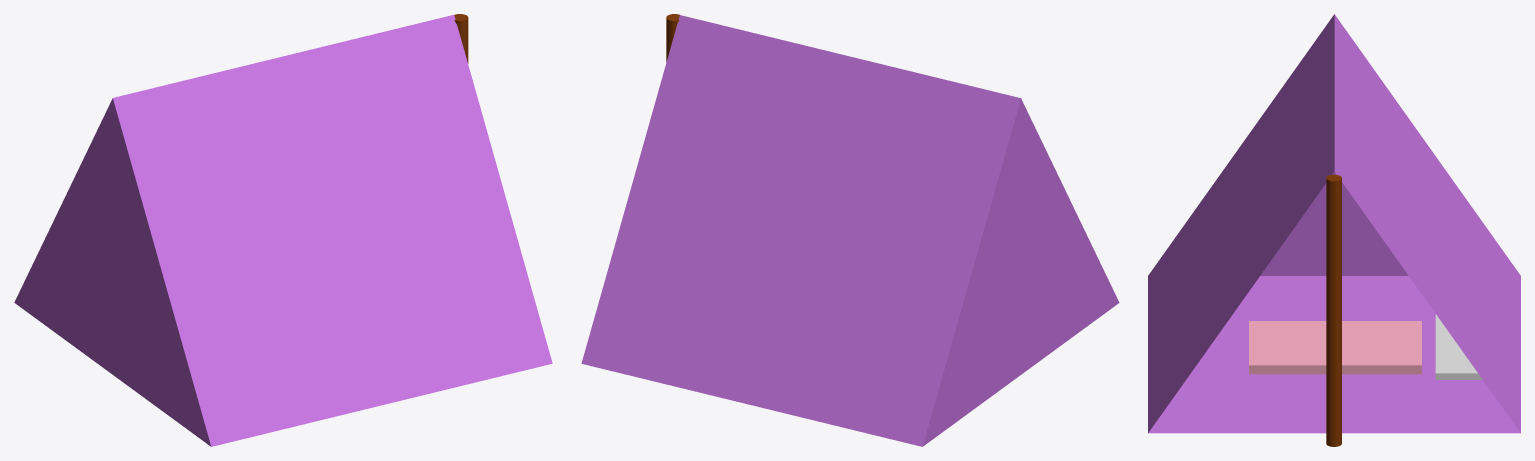
The model's file is tendaboa.fbx.
3 renders of one model, left to right at view 1: azimuth 30°, elevation 25°; view 2: azimuth 150°, elevation 25°; view 3: azimuth 270°, elevation 25°, orthographic. The views are drawn at different scales.
Parts seen in each view (by area): view 1: Plane; view 2: Plane; view 3: Plane, Cube, Cylinder, Cube.001.
Boxes of the visible parts, <box> form: Plane: <box>14,15,552,446</box>; Plane: <box>581,15,1119,446</box>; Plane: <box>1148,14,1520,433</box>; Cube: <box>1249,321,1421,374</box>; Cylinder: <box>1326,174,1341,446</box>; Cube.001: <box>1435,314,1482,379</box>.
Size of the model in its own units: 207 by 160 by 200.
